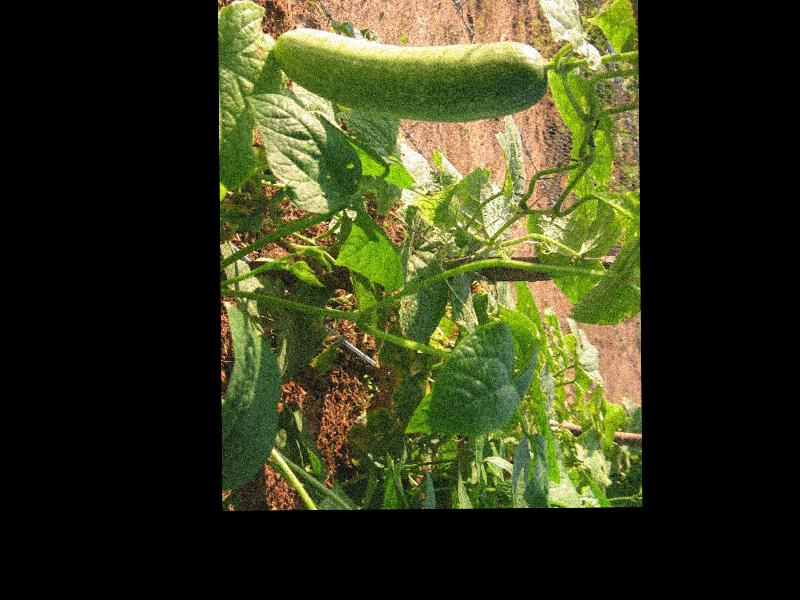Cucumber: (274, 26, 546, 123)
